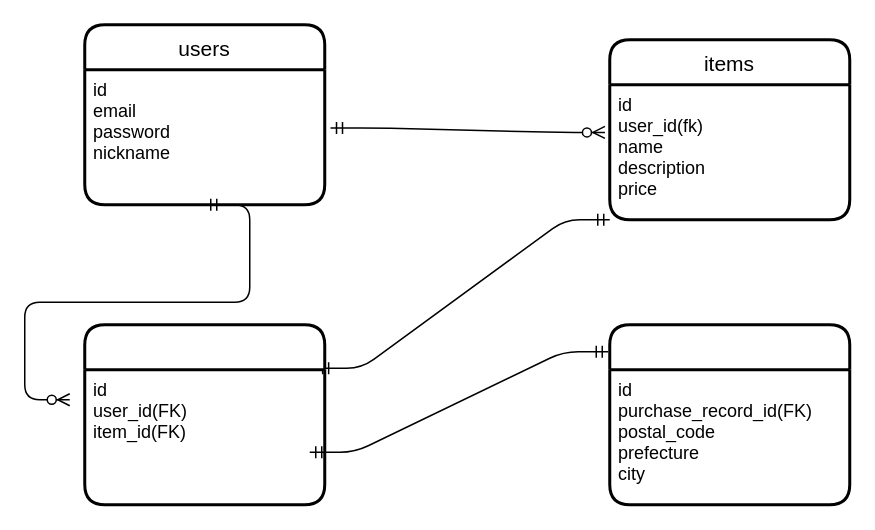
The diagram is 875 pixels wide and 530 high, and some of its shapes have lost their labels. The box of each missing label's shape, as (x1, y1, x2, y2) in pixels:
purchase_records: (82, 322, 326, 506)
shipping_addresss: (608, 322, 850, 506)
